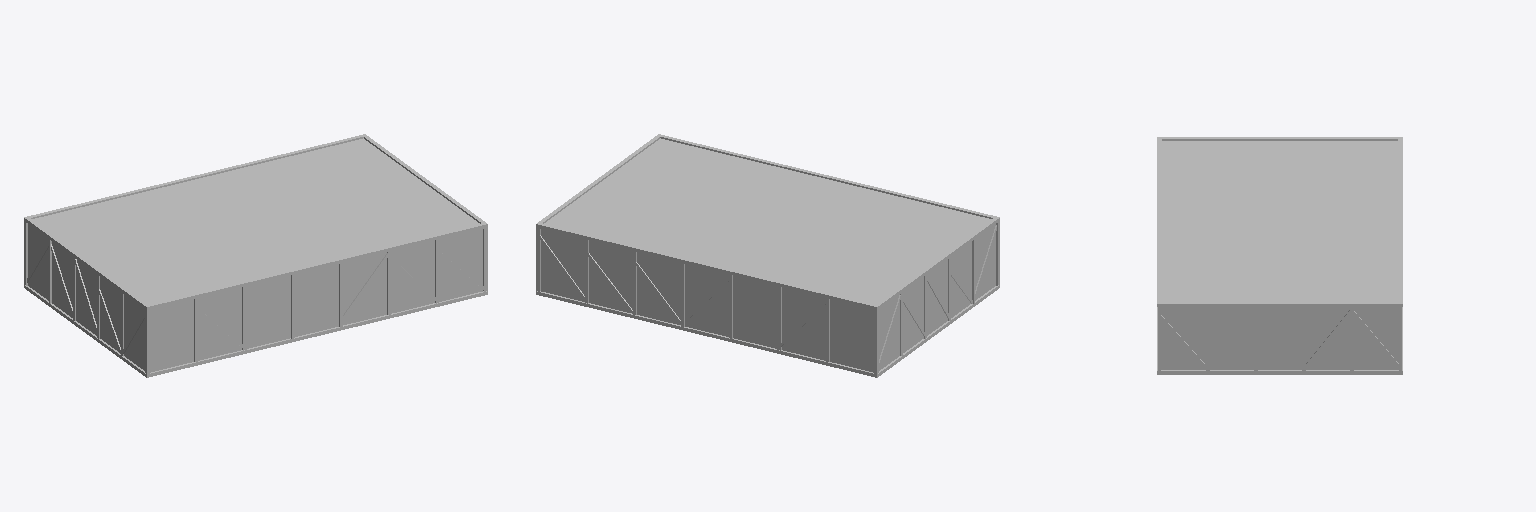
The model's file is floor2.obj.
The picture shows the model from 3 angles: view 1: azimuth 30°, elevation 25°; view 2: azimuth 150°, elevation 25°; view 3: azimuth 270°, elevation 25°; orthographic projection.
Parts seen in each view (by area): view 1: buildingWalls, wood_Parts; view 2: buildingWalls, wood_Parts; view 3: buildingWalls, wood_Parts.
Part boxes in pixels (left/top/right/bottom): buildingWalls: left=28, top=138, right=482, bottom=372; wood_Parts: left=24, top=134, right=487, bottom=377; buildingWalls: left=541, top=138, right=995, bottom=372; wood_Parts: left=536, top=134, right=999, bottom=377; buildingWalls: left=1161, top=141, right=1398, bottom=369; wood_Parts: left=1157, top=137, right=1402, bottom=374.
Bounding box in the file's own units: 21.25 × 4.2 × 13.25.